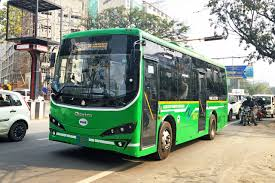bus: (49, 28, 230, 160)
